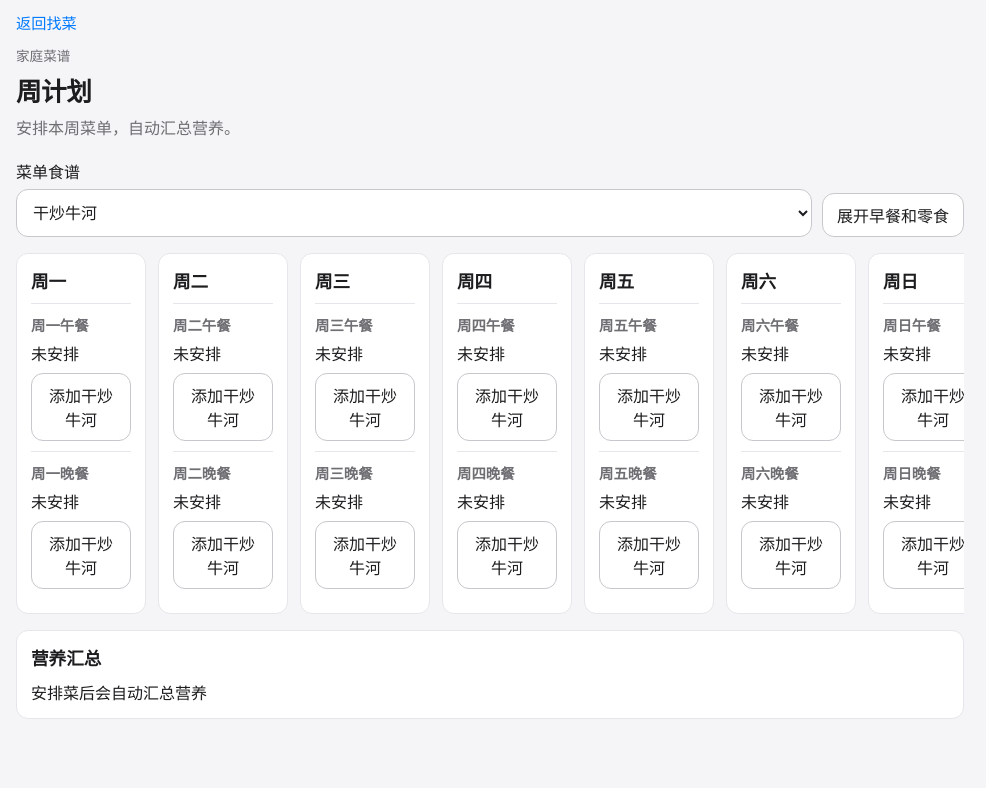
Test: WeekPlanner › reveals breakfast and snack only after explicit expansion
The image size is (986, 788).
Click the button "展开早餐和零食" at x=893, y=215, box [822,193,964,237]
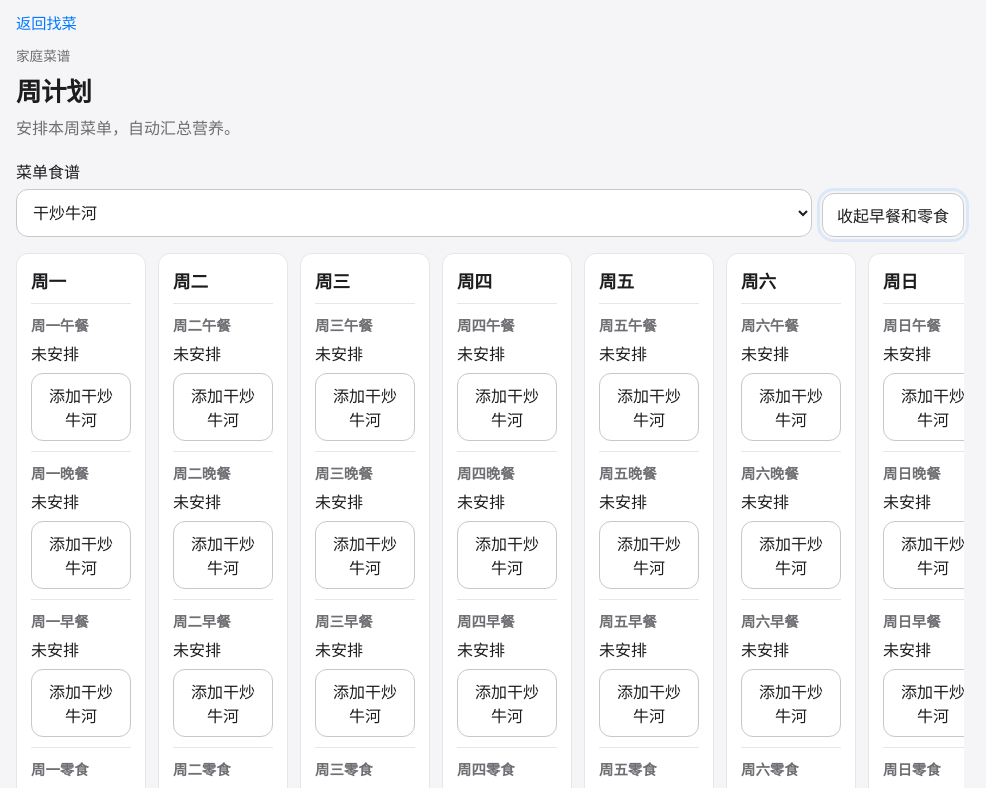
Result: the heading "早餐" is shown at [31,612,89,631]
Result: the heading "零食" is shown at [31,760,89,779]
